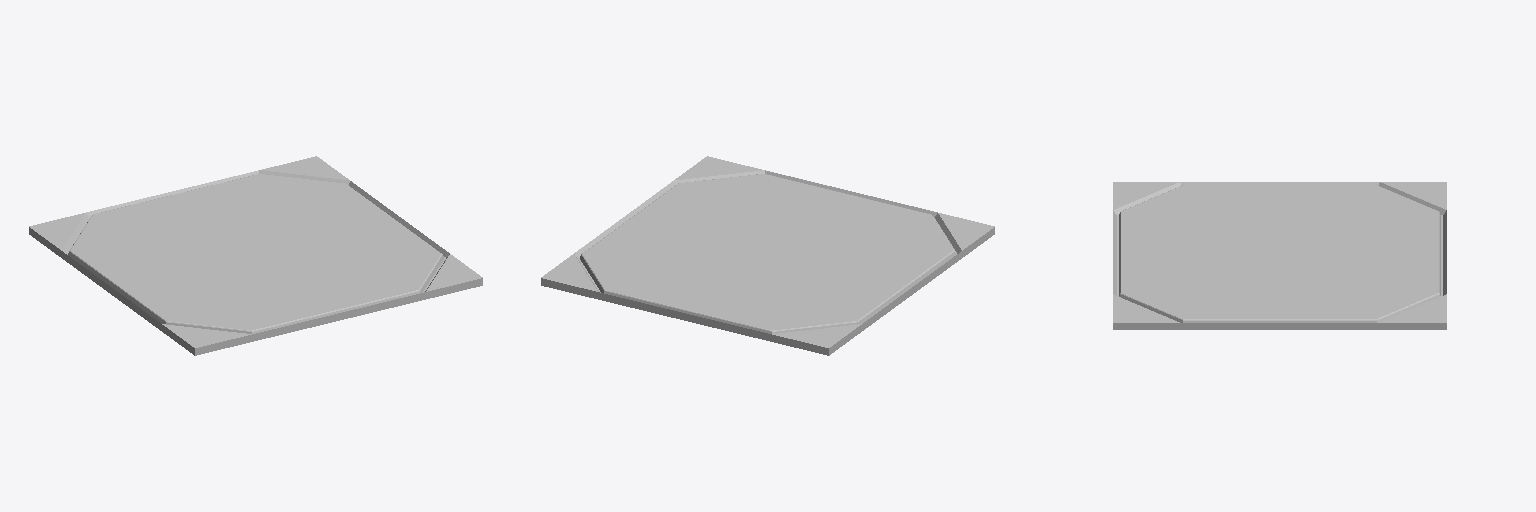
The model's file is Floor.obj.
The picture shows the model from 3 angles: view 1: azimuth 30°, elevation 25°; view 2: azimuth 150°, elevation 25°; view 3: azimuth 270°, elevation 25°; orthographic projection.
Parts seen in each view (by area): view 1: Box001_Untitled; view 2: Box001_Untitled; view 3: Box001_Untitled.
Part boxes in pixels (bbox=[...]): Box001_Untitled: bbox=[29, 156, 482, 355]; Box001_Untitled: bbox=[541, 156, 994, 355]; Box001_Untitled: bbox=[1113, 182, 1446, 329].
Size of the model in its own units: 1 by 0.0252 by 1.